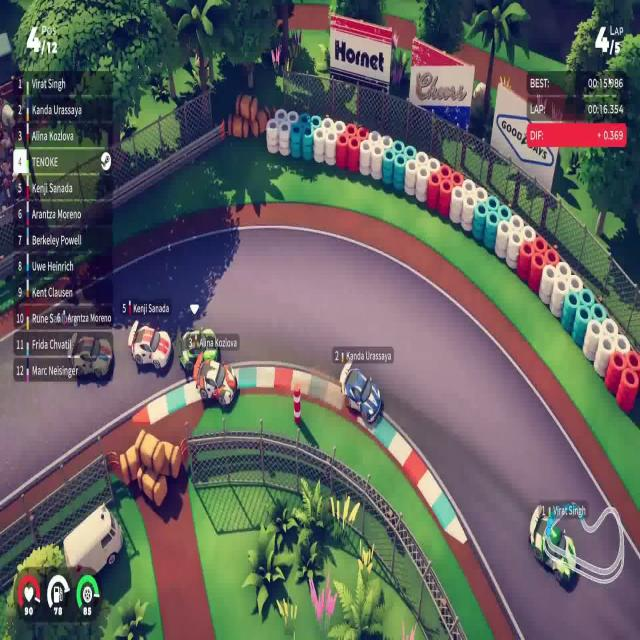car: (342, 364, 382, 424), (127, 319, 172, 372), (195, 356, 238, 408), (178, 326, 220, 378), (69, 334, 113, 381)
